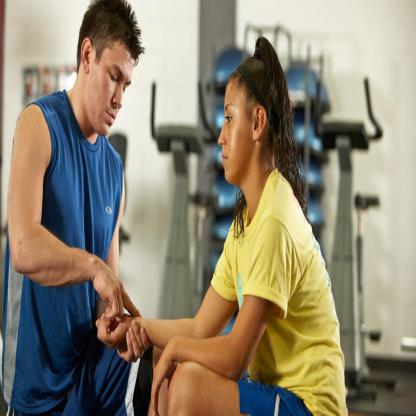face: (91, 33, 132, 134), (219, 81, 253, 180)
